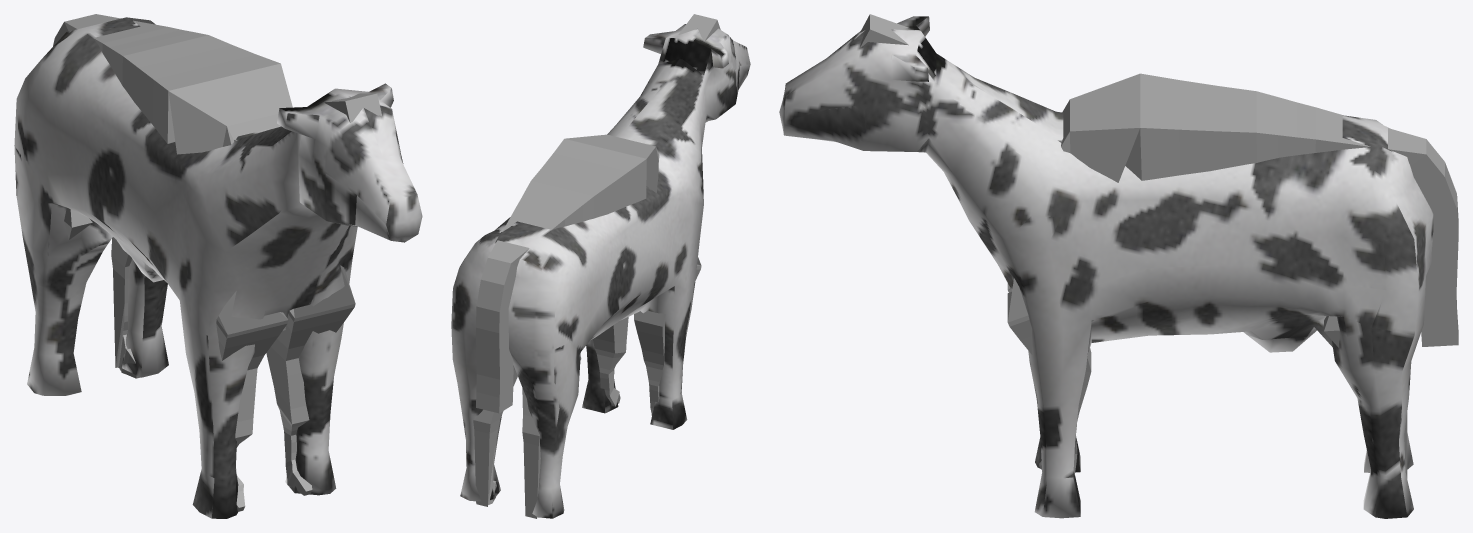
The model's file is ANIM_Cow_Idle_2.fbx.
3 renders of one model, left to right at view 1: azimuth 30°, elevation 25°; view 2: azimuth 150°, elevation 25°; view 3: azimuth 270°, elevation 25°, orthographic. The views are drawn at different scales.
Parts seen in each view (by area): view 1: model:Cube, model:skinCage; view 2: model:Cube, model:skinCage; view 3: model:Cube, model:skinCage.
Boxes of the visible parts, bbox=[...] form: model:Cube: bbox=[14, 17, 422, 518]; model:skinCage: bbox=[53, 14, 382, 511]; model:Cube: bbox=[451, 24, 750, 518]; model:skinCage: bbox=[473, 14, 720, 518]; model:Cube: bbox=[779, 16, 1433, 518]; model:skinCage: bbox=[859, 14, 1458, 478].
Size of the model in its own units: 220 by 653 by 854.
